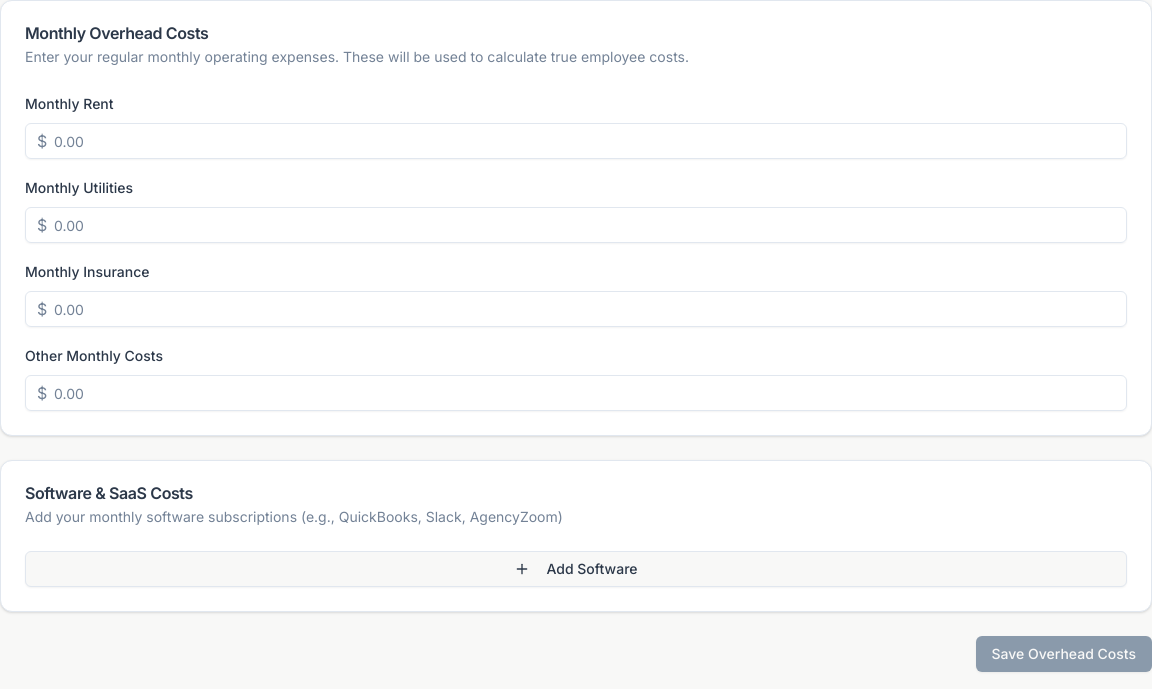
Test: OverheadCostForm › form interactions › adds new software item when Add Software is clicked
Click the button "Add Software" at {"x": 576, "y": 569}, box [25, 551, 1127, 587]
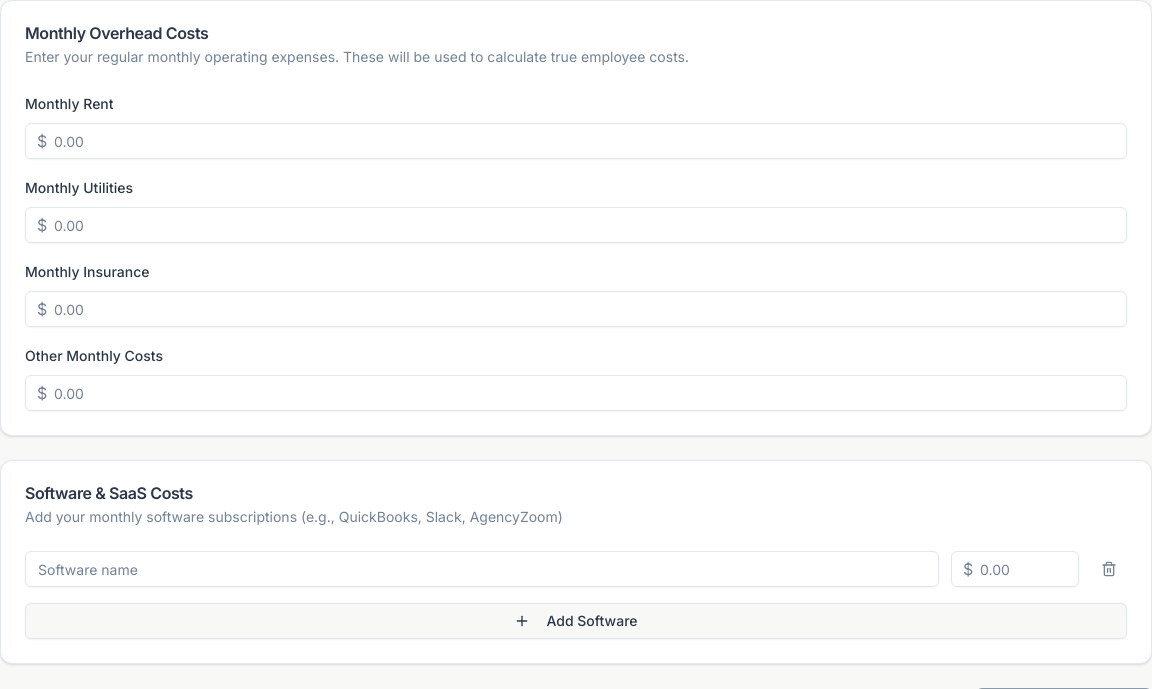
Check: the field labelled "Software name" is shown, box [25, 551, 939, 587]
